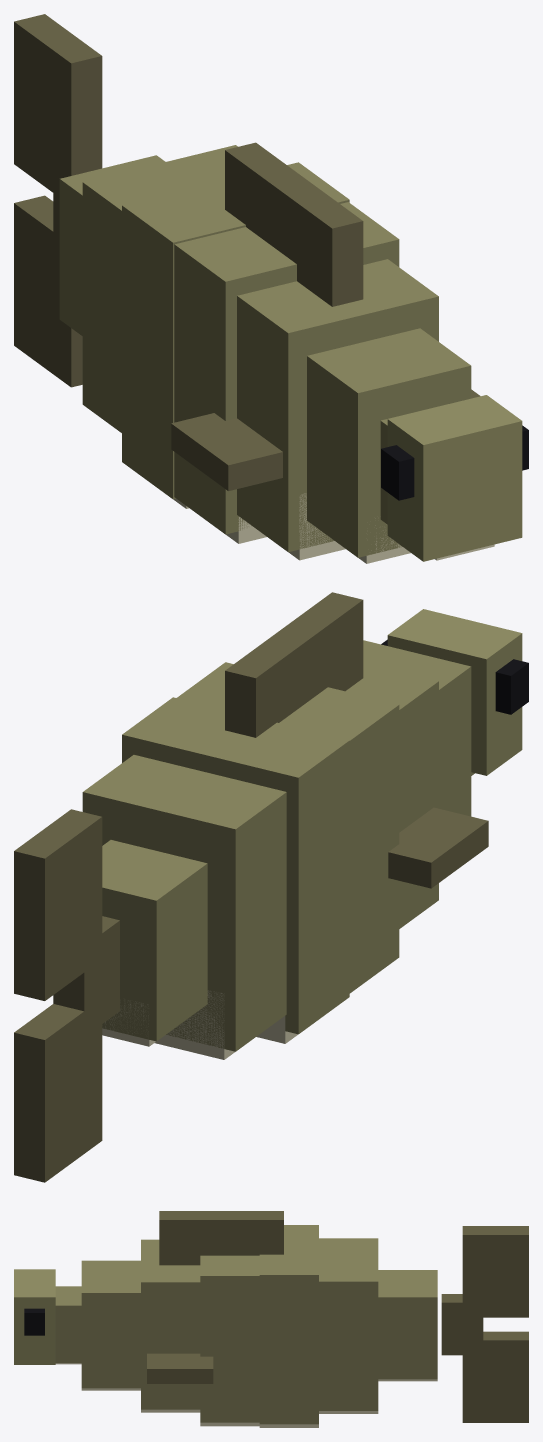
The model's file is Cod.obj.
The picture shows the model from 3 angles, top to bottom: view 1: azimuth 30°, elevation 25°; view 2: azimuth 150°, elevation 25°; view 3: azimuth 270°, elevation 25°; orthographic projection. The views are drawn at different scales.
Visible parts, largest first — view 1: Cod; view 2: Cod; view 3: Cod.
Boxes of the visible parts, x1=… form: Cod: x1=14, y1=14, x2=528, y2=563; Cod: x1=14, y1=592, x2=528, y2=1182; Cod: x1=14, y1=1211, x2=528, y2=1427.
Size of the model in its own units: 0.42 by 0.54 by 1.24.
1 material, 1 textured.
